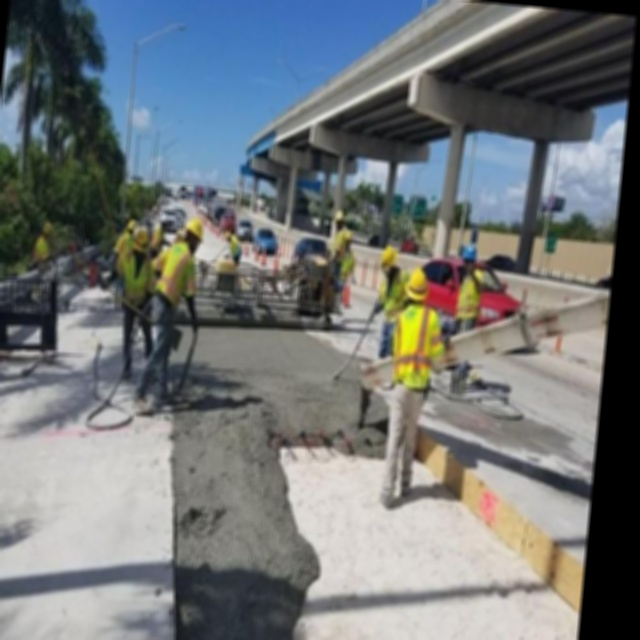Con_Casco: (404, 266, 431, 307), (184, 218, 206, 252), (460, 241, 478, 272)
Con_Chaleco: (393, 305, 440, 391), (157, 246, 194, 302), (118, 251, 152, 306)
